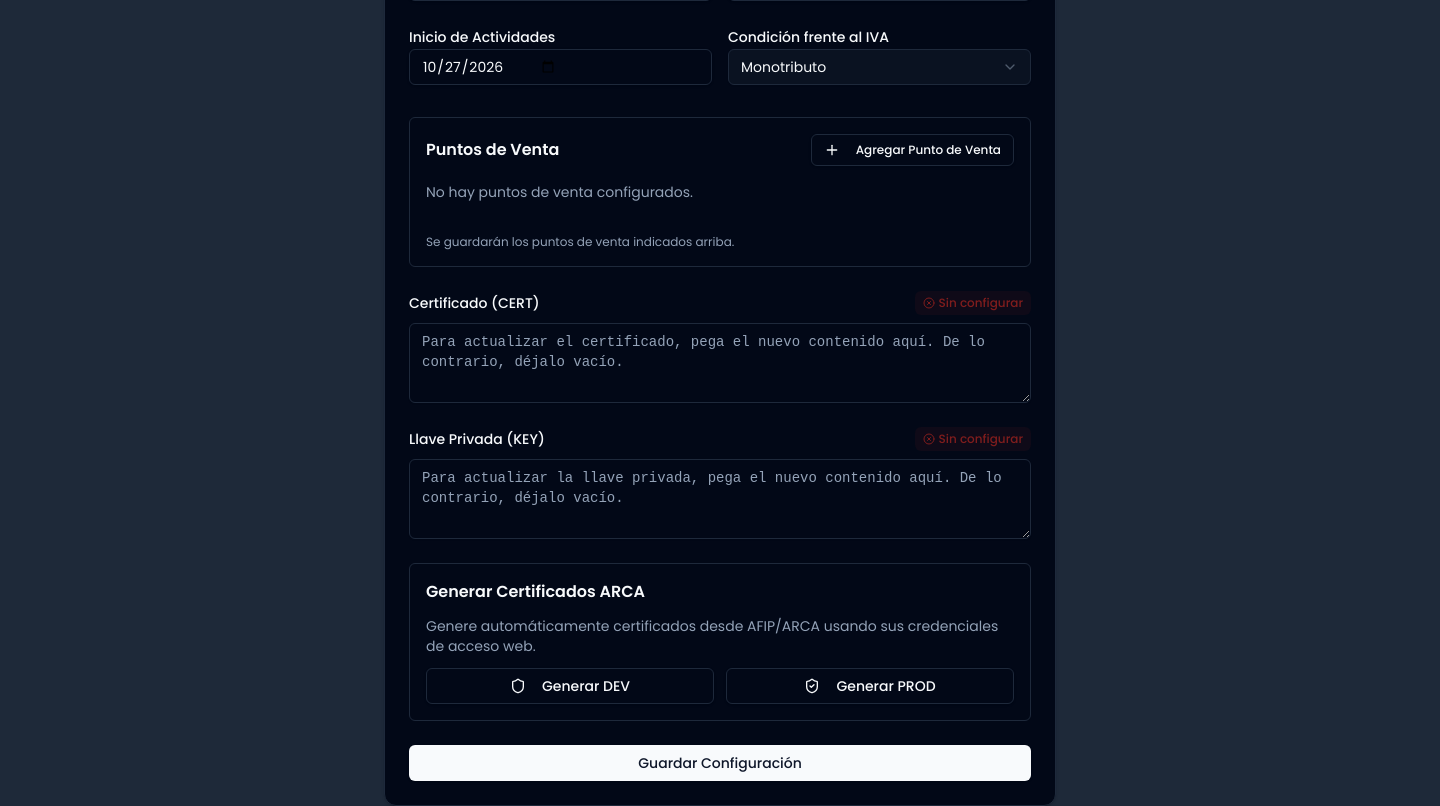
ArcaForm: generación de certificados › refresca los datos de servidor después de generar PROD y no muestra PEM/key
(page scrolled)
Click the button "Generar PROD": (870, 686) [726,668,1014,704]
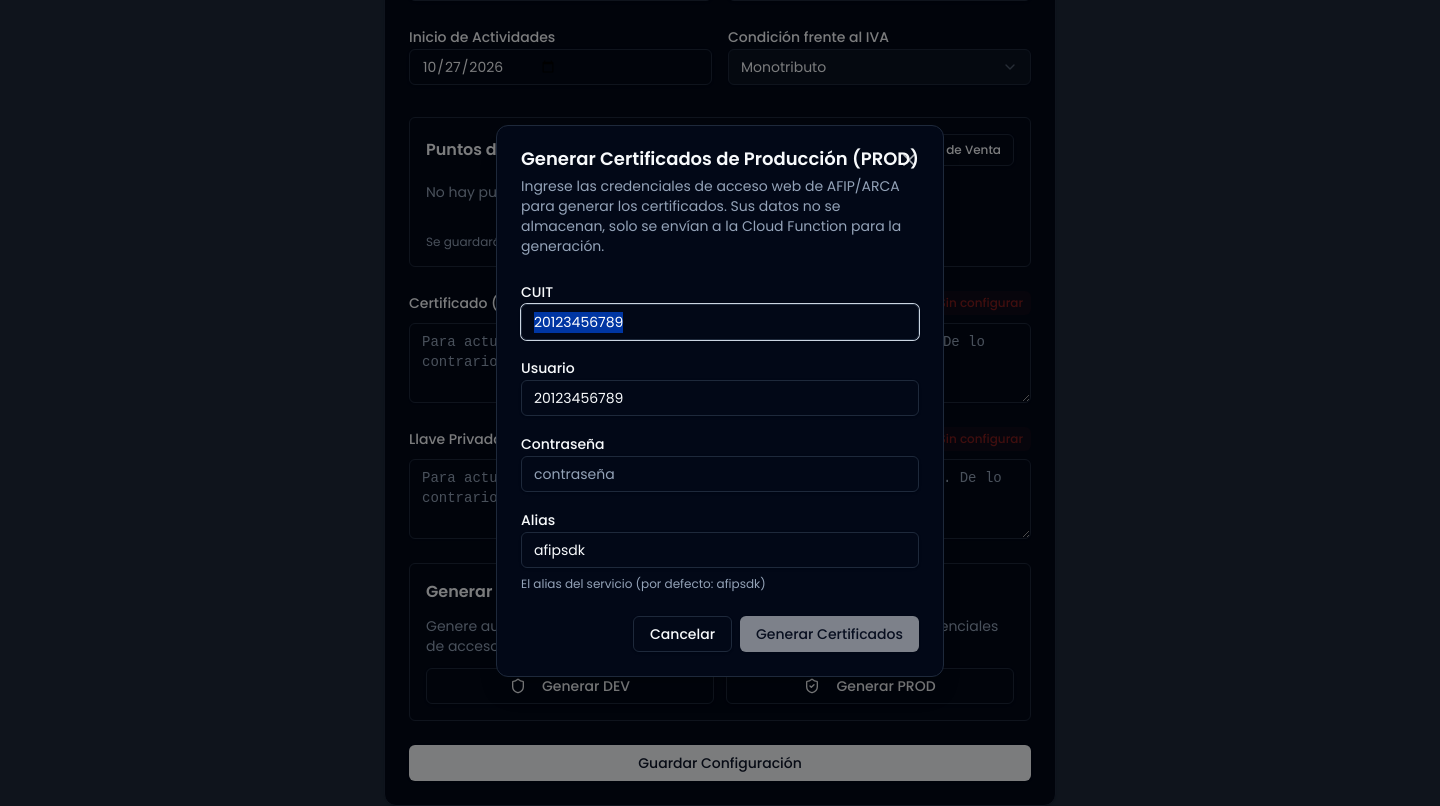
In the password field with placeholder "contraseña": (720, 474) [521,456,919,492], type "password"
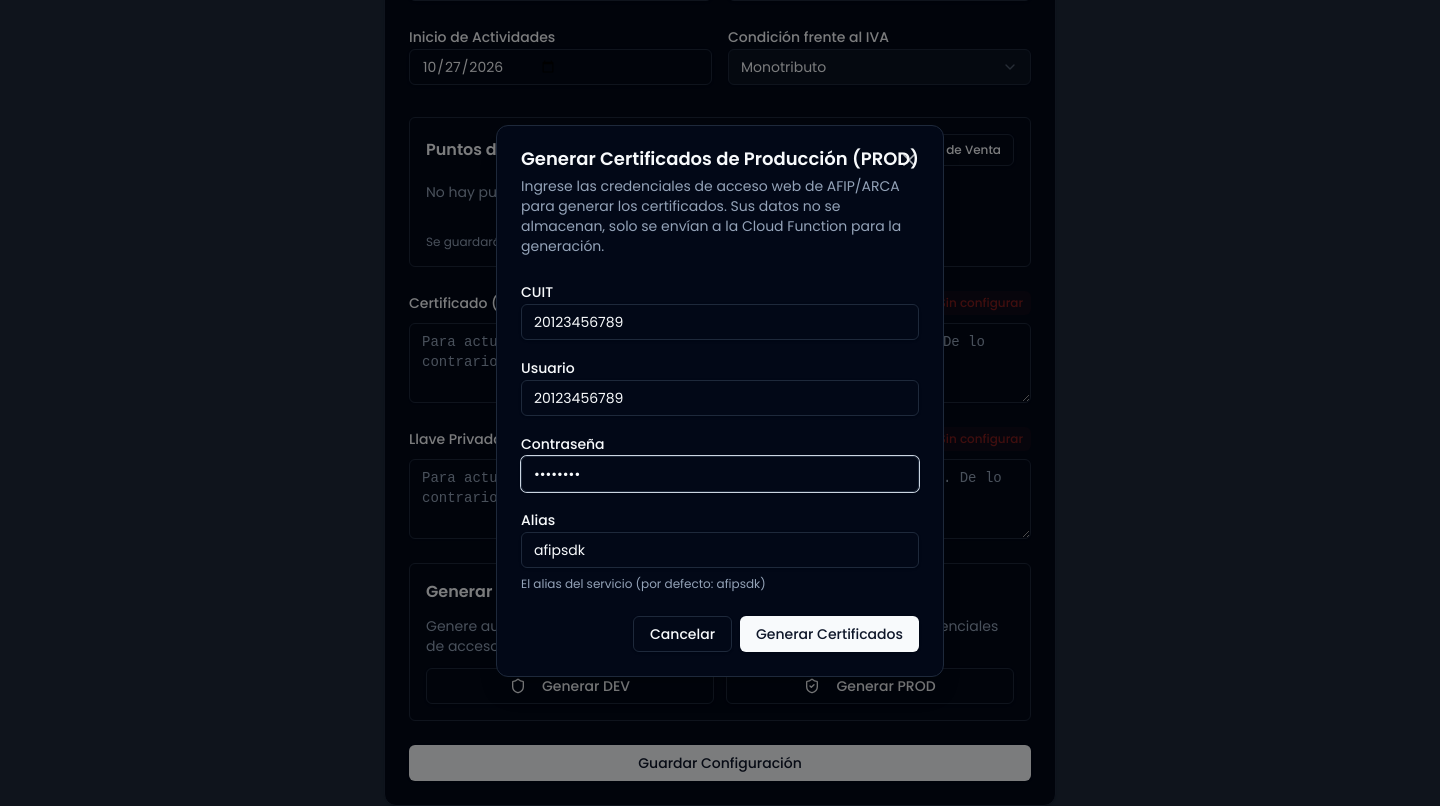
Click the button "Generar Certificados": (830, 634) [740,616,919,652]
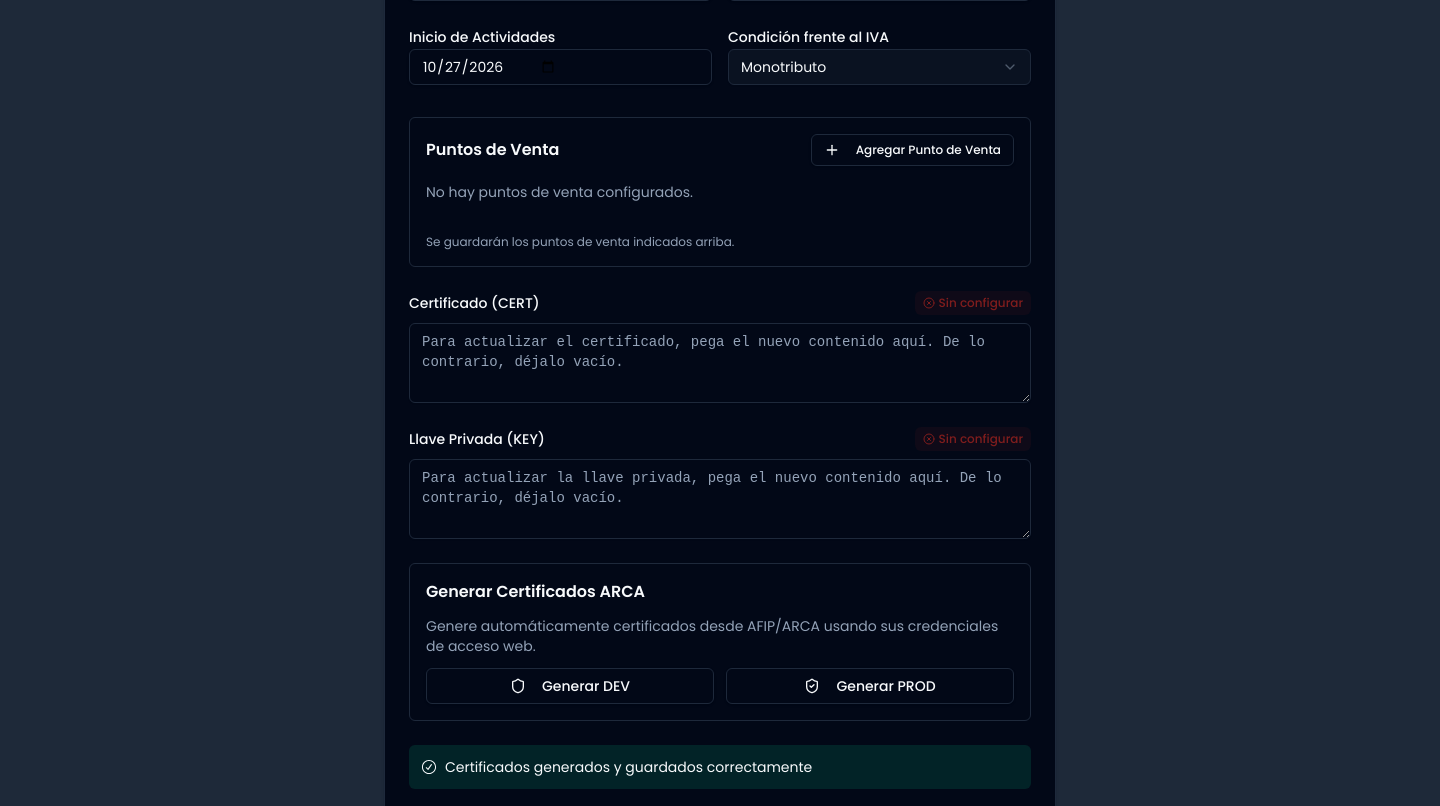
Now the text "Certificados generados y guardados correctamente" is shown, box [445,757,812,777]
